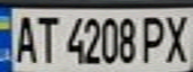0: (100, 14, 121, 65)
2: (81, 12, 103, 65)
4: (60, 12, 84, 65)
8: (118, 12, 142, 65)
A: (9, 10, 39, 64)
P: (139, 11, 172, 65)
T: (33, 11, 60, 64)
X: (160, 11, 193, 64)
